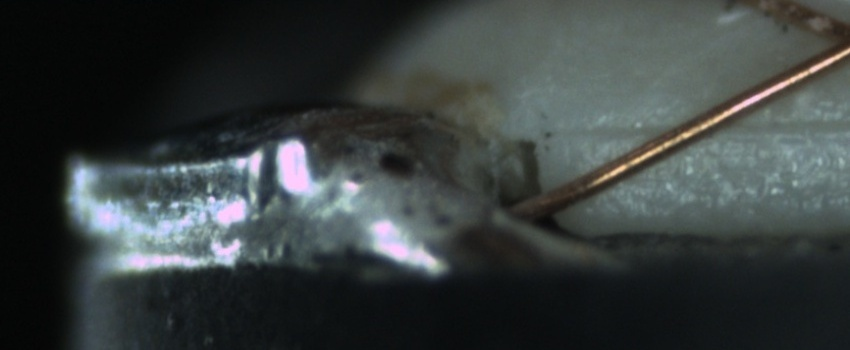CL: (796, 7, 850, 80)
DL: (558, 96, 849, 158)
